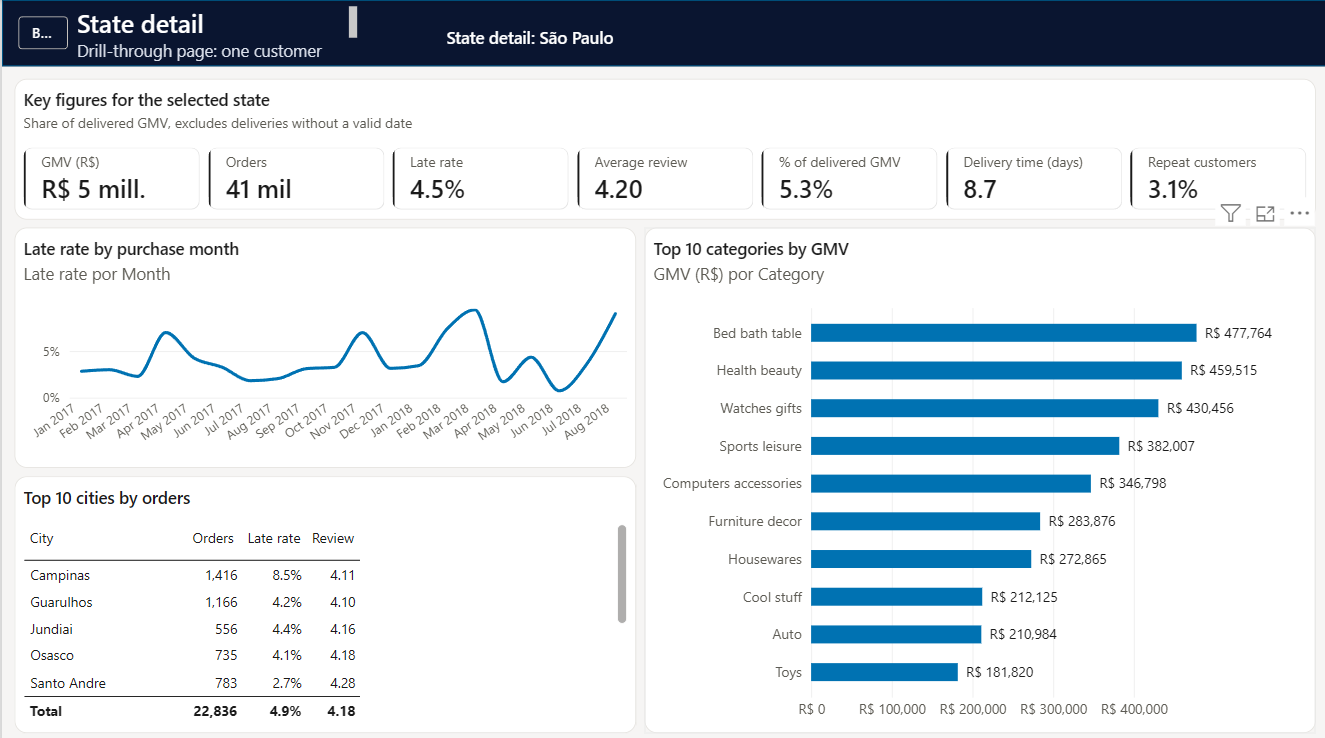

What the dashboard file says about the page in this screenshot:
{"tool":"powerbi","page":{"name":"State detail","canvas":[1280,720],"ordinal":3},"visuals":[{"type":"shape","box":[0,0,1280,64],"z":0},{"type":"textbox","box":[72,6,270,54],"z":1000},{"type":"actionButton","box":[16,16,48,32],"z":2000},{"type":"actionButton","box":[360,18,300,28],"z":2000},{"type":"actionButton","box":[680,18,180,28],"z":2000},{"type":"cardVisual","title":"Key figures for the selected state","fields":{"Data":["_Measures.GMV","_Measures.Orders","_Measures.Late Rate %","_Measures.Avg Review","_Measures.Late GMV %","_Measures.Avg Delivery Days","_Measures.Repeat Customer Rate"]},"box":[12,76,1256,136],"z":4000},{"type":"lineChart","title":"Late rate by purchase month","fields":{"Category":["dim_date.year","dim_date.month_label"],"Y":["_Measures.Late Rate %"]},"box":[12,220,600,232],"z":4000},{"type":"barChart","title":"Top 10 categories by GMV","fields":{"Category":["dim_product.category_name"],"Y":["_Measures.GMV"]},"box":[620,220,648,488],"z":4000},{"type":"tableEx","title":"Top 10 cities by orders","fields":{"Values":["dim_customer.city","_Measures.Orders","_Measures.Late Rate %","_Measures.Avg Review"]},"box":[12,460,600,248],"z":4000}]}

Visuals, with their boxes in screenshot pixels (x1, y1, x2, y2), scaled from the page's 1280x720 canvas onto the 1325x738 screenshot:
shape: [0,0,1324,66]
textbox: [75,6,354,61]
actionButton: [17,16,66,49]
actionButton: [373,18,683,47]
actionButton: [704,18,890,47]
"Key figures for the selected state" cardVisual: [12,78,1313,217]
"Late rate by purchase month" lineChart: [12,225,634,463]
"Top 10 categories by GMV" barChart: [642,225,1313,726]
"Top 10 cities by orders" tableEx: [12,471,634,726]
